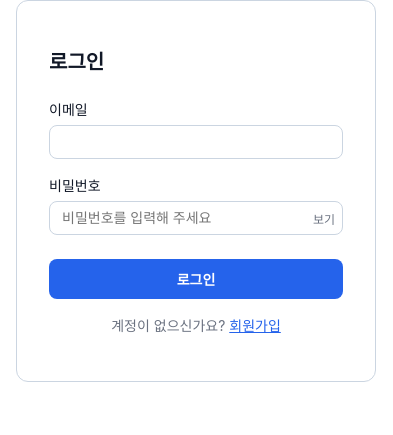
Test: LoginForm › 서버 401 INVALID_CREDENTIALS 응답 시 오류 메시지 표시 및 password 초기화
In the field: [196, 142] box [49,125,343,159], type "test@example.com"
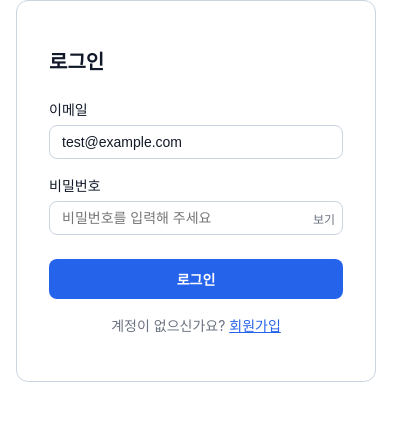
In the password field labelled "비밀번호": [196, 218] box [49,201,343,235], type "wrongpass"
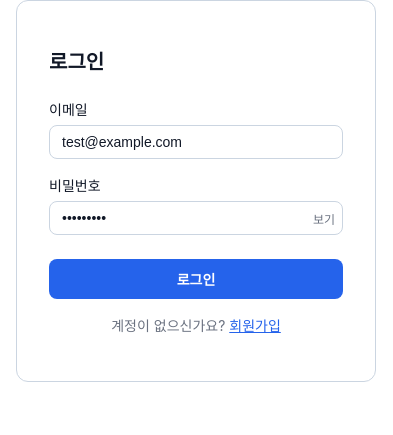
Click the button "로그인": [196, 279] box [49,259,343,299]
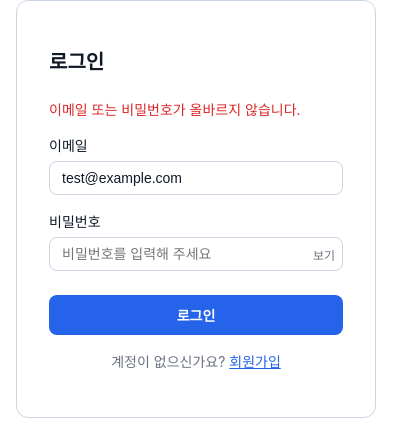
Now the text "이메일 또는 비밀번호가 올바르지 않습니다." is shown, box [49,99,343,119]
Now the password field labelled "비밀번호" is empty, box [49,237,343,271]
